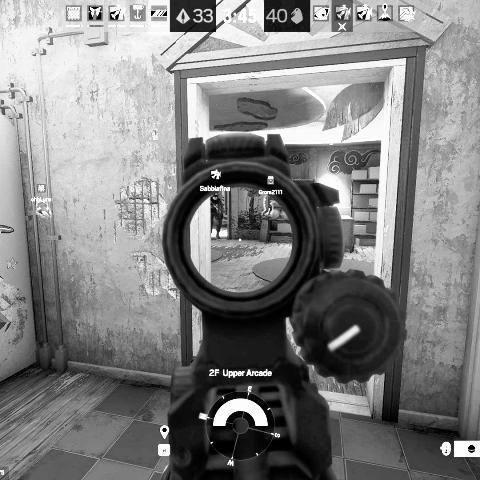Character: (209, 191, 225, 240)
Friend_label: (200, 170, 231, 192), (259, 176, 283, 196), (31, 183, 52, 202)
Head: (212, 191, 219, 200)
